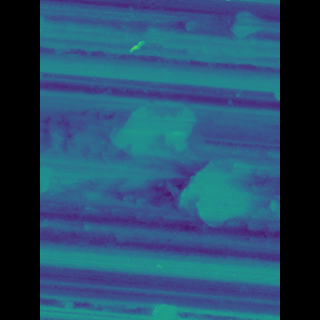Loch: (70, 106, 194, 163), (170, 150, 232, 230)
